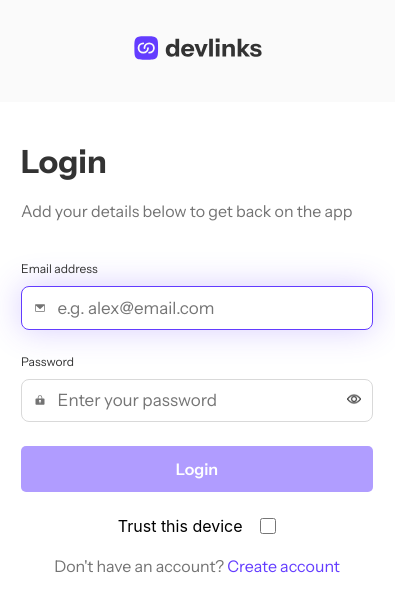
Test: <Login /> › displays error messages if password is less than 8 characters
In the password field with placeholder "Enter your password": (202, 400) x1=58 y1=390 x2=347 y2=410, type "1234567"
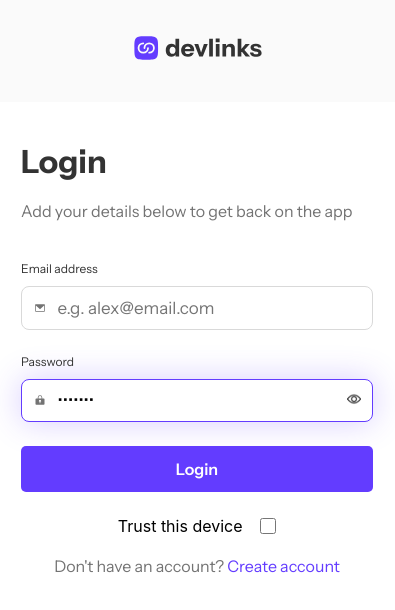
Click the button with test id "login-button": (197, 469) x1=21 y1=446 x2=373 y2=492
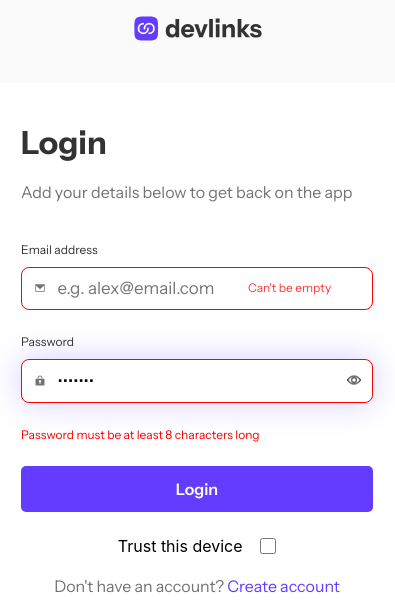
Expected: the text "Password must be at least 8 characters long" is shown, x1=21 y1=427 x2=260 y2=442
